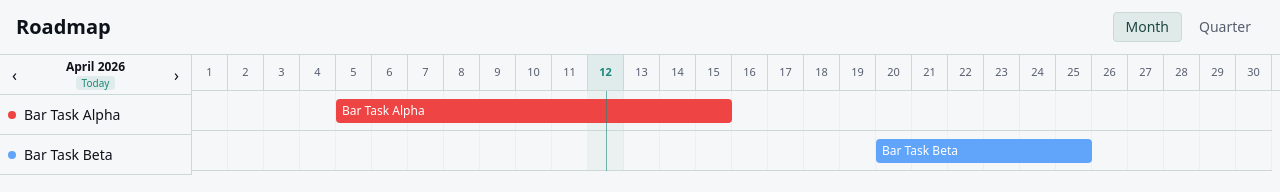
Scenario: RoadmapPage › Today button navigates to the current month
Expected: the button "Today" is shown, x1=76 y1=76 x2=115 y2=90
Navigate backward one month first
Click the button named "Previous".
click(14, 74)  # box x1=8 y1=66 x2=21 y2=82
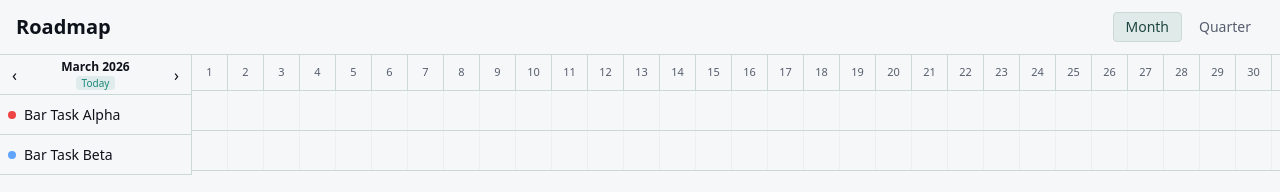
Now click Today — should jump back to current month (April 2026)
Click the button "Today".
click(96, 83)  # box x1=76 y1=76 x2=115 y2=90
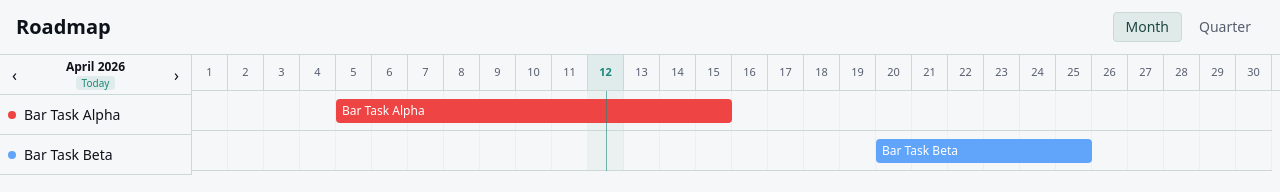
Result: the text "April 2026" is shown at x1=66 y1=59 x2=125 y2=74
